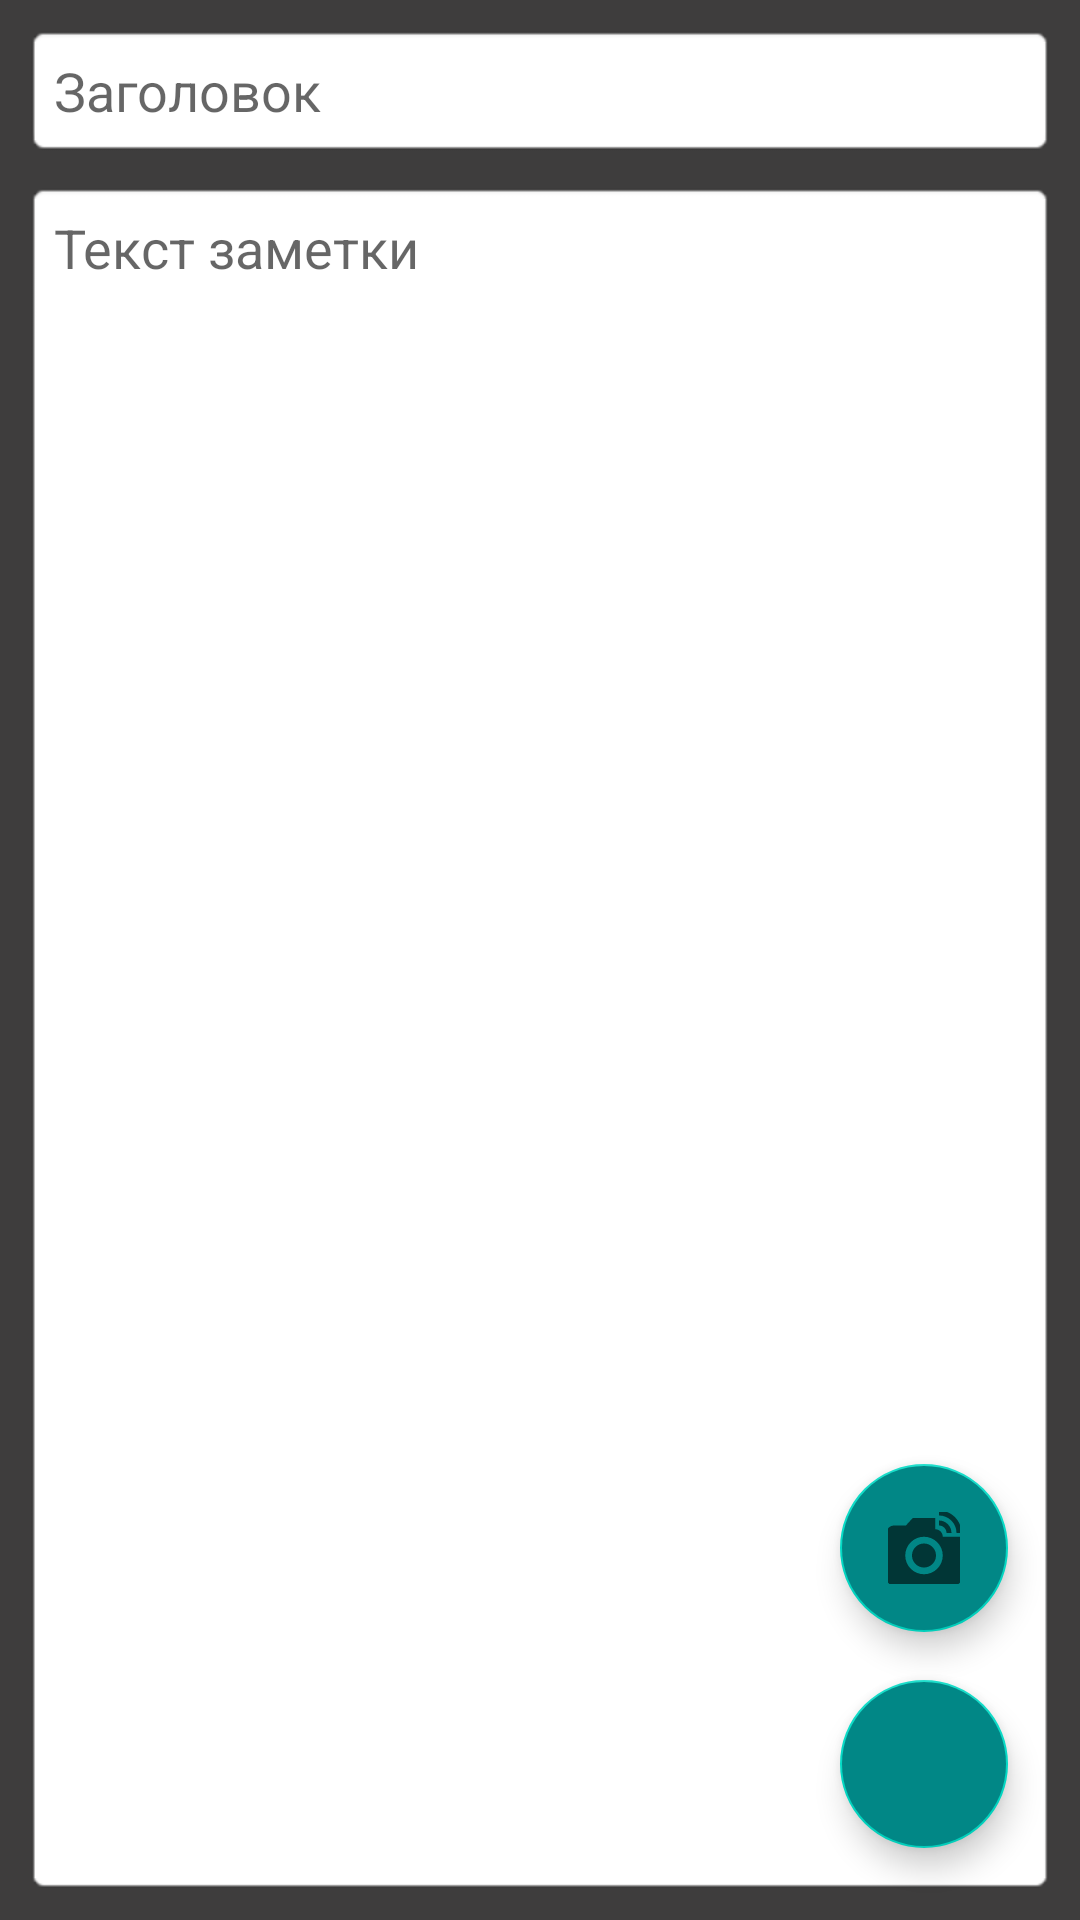

Screen size 1080w x 1920h. Icon name, then its center in pixels as [x,y]:
foto: [924,1548]
